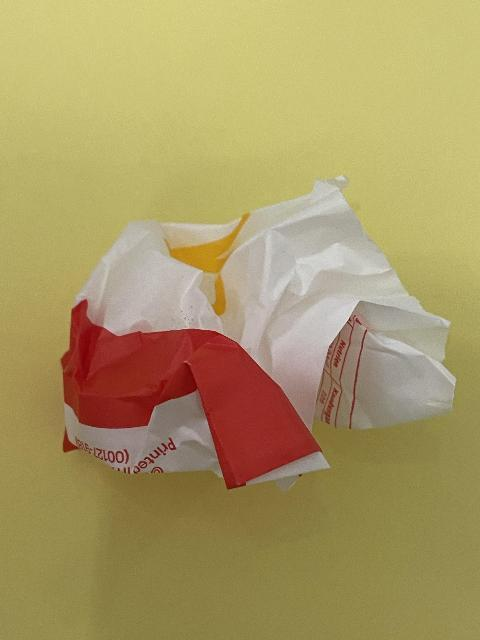paperbag: (60, 173, 456, 493)
